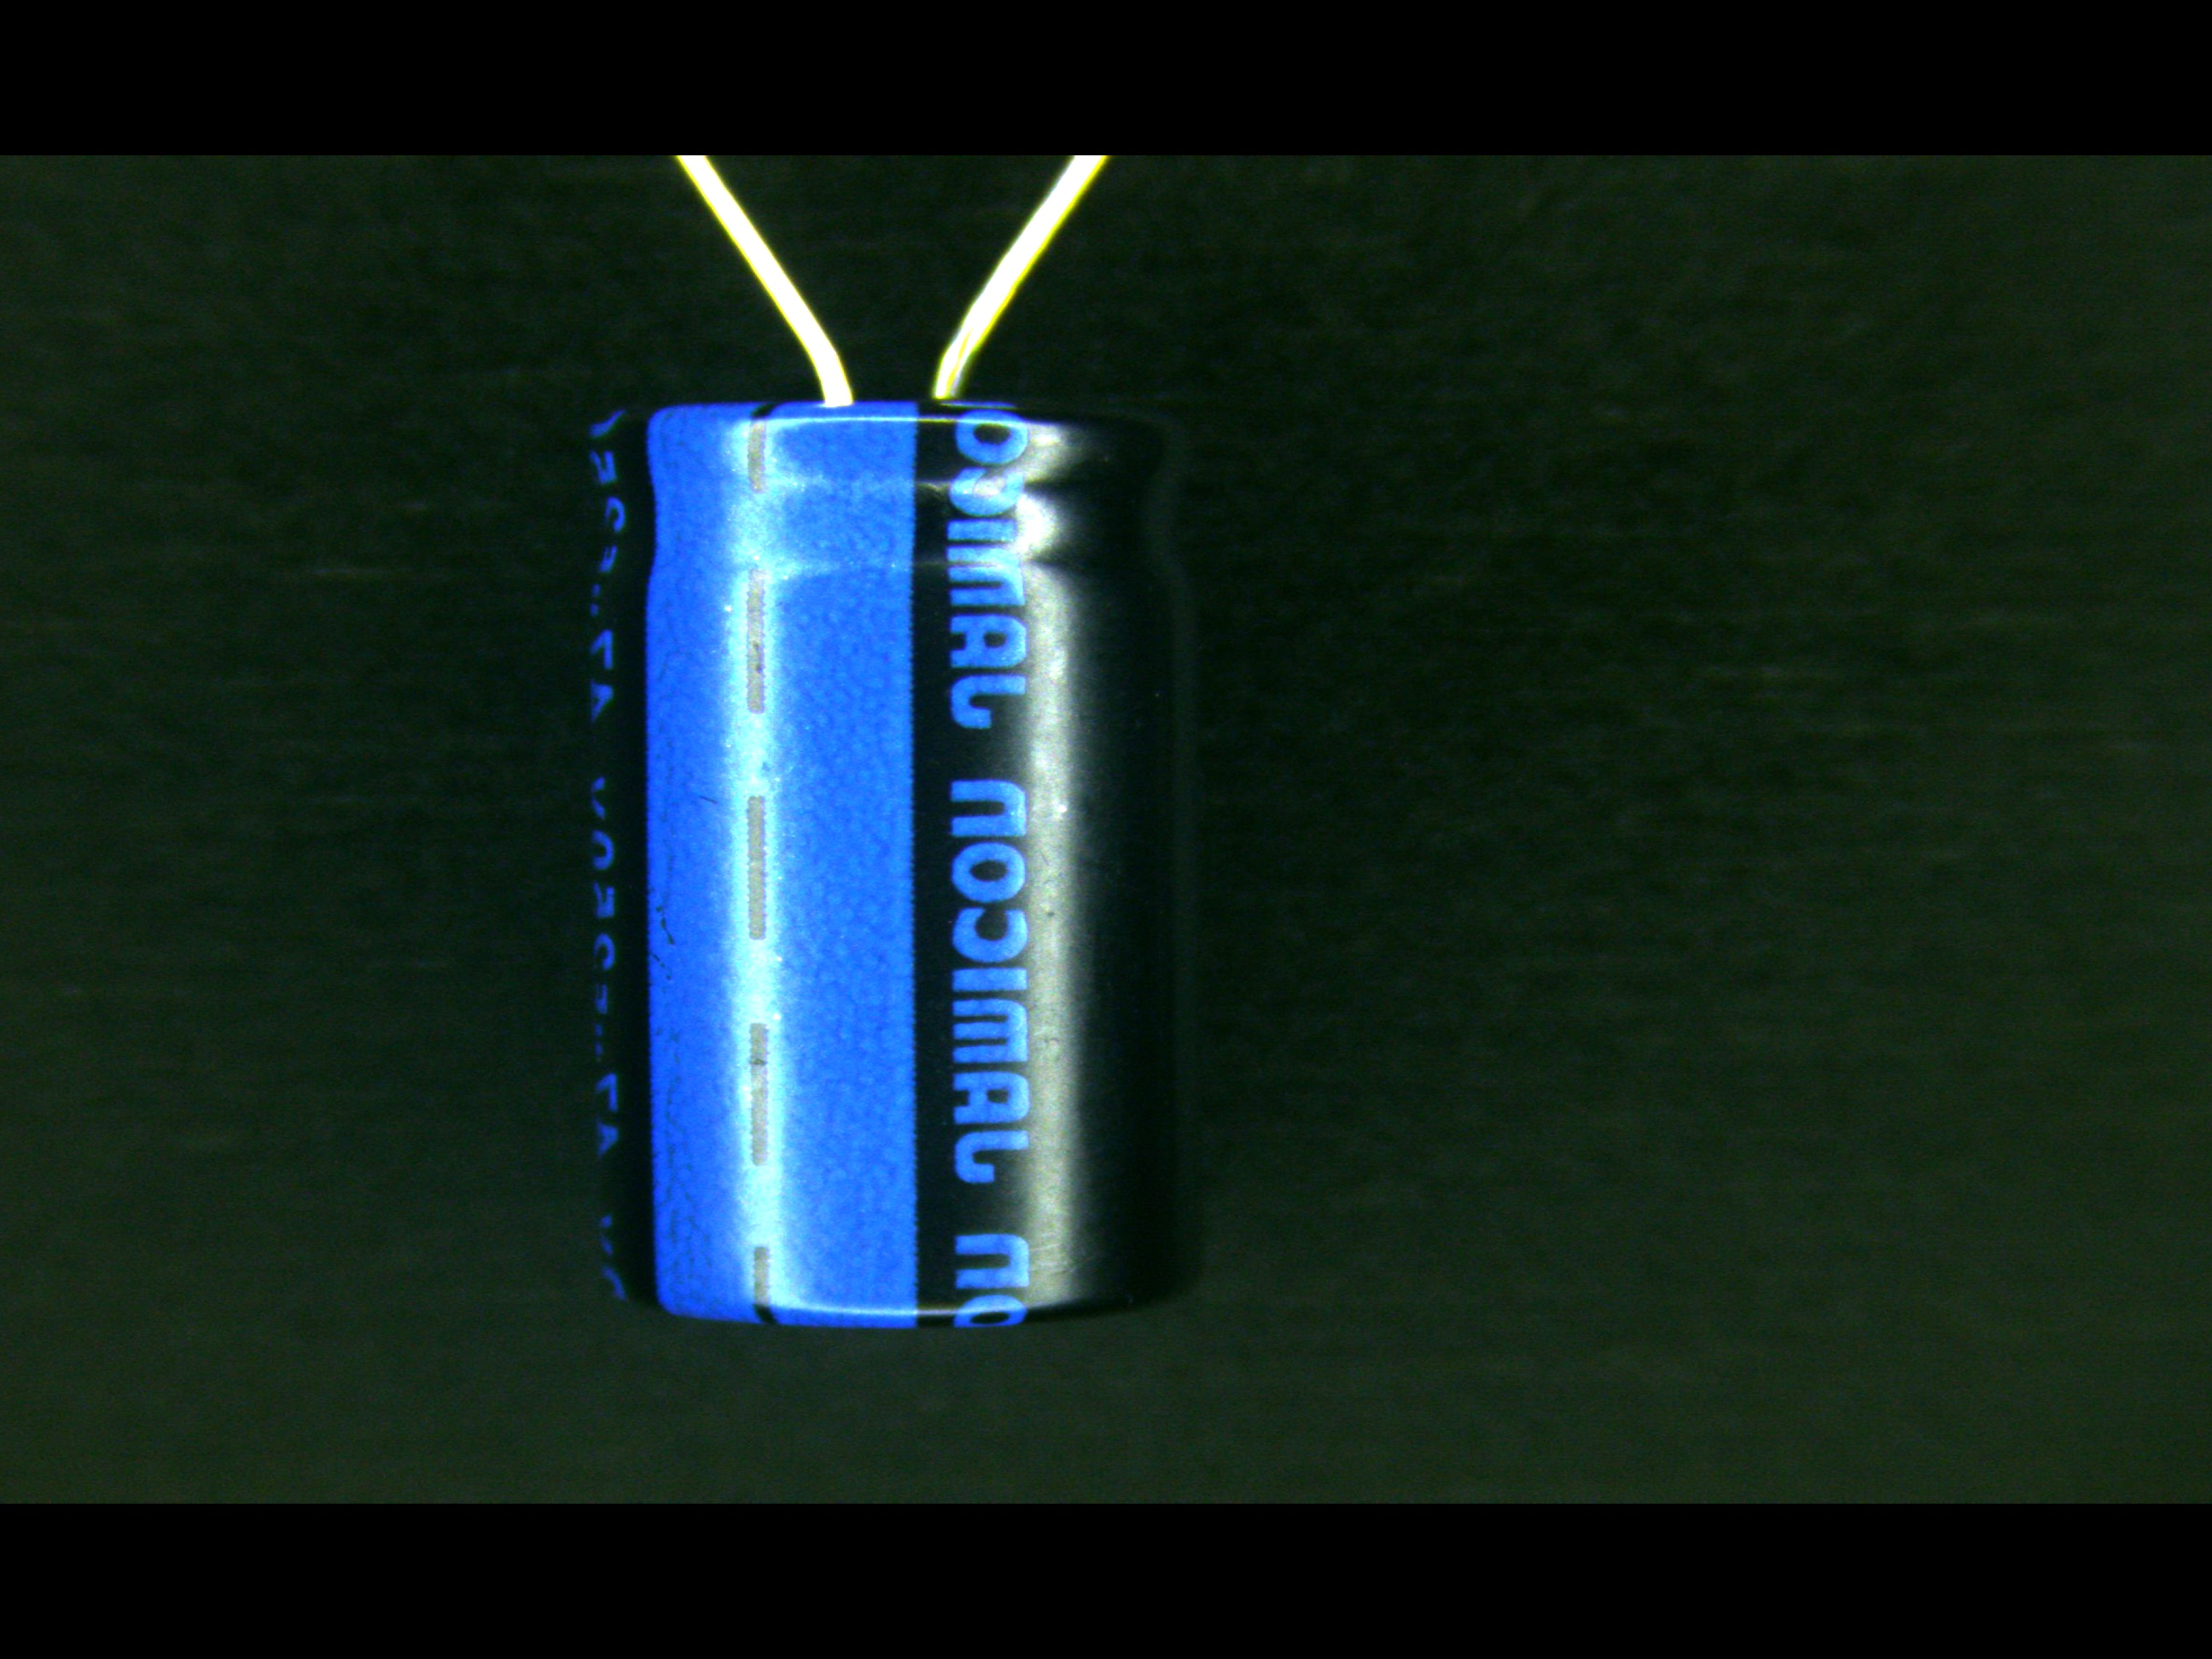c2: (578, 303, 1205, 1331)
